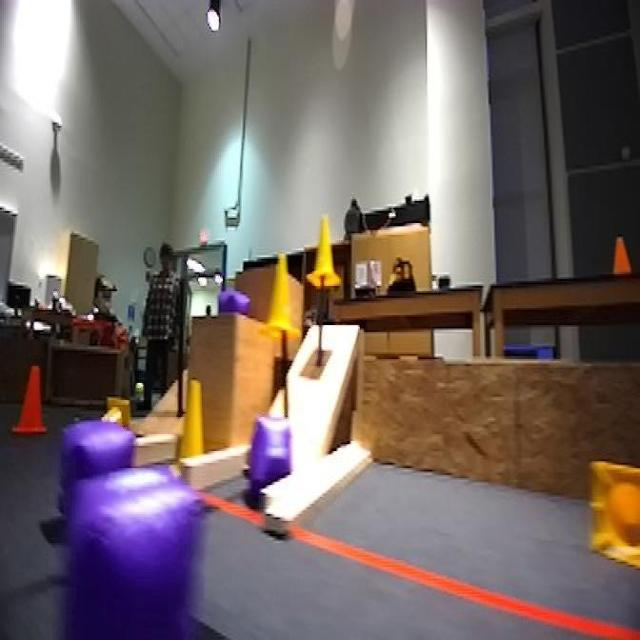frc_cone: (590, 460, 640, 570), (167, 373, 215, 485), (264, 243, 300, 339), (313, 216, 338, 295), (92, 392, 132, 439)
frc_cube: (50, 456, 218, 616), (52, 424, 130, 536), (243, 417, 290, 502), (213, 292, 237, 316)
